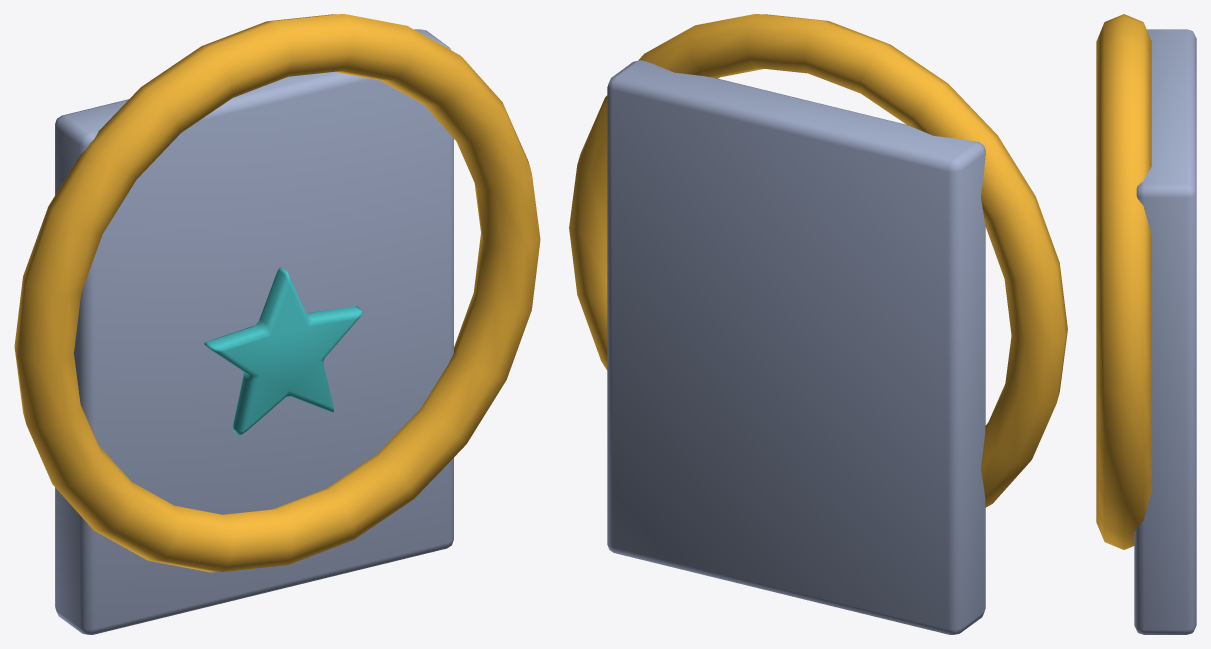
File: r057_dungeon_puzzle_door_puzzle_door.glb
The picture shows the model from 3 angles, left to right: view 1: azimuth 30°, elevation 25°; view 2: azimuth 150°, elevation 25°; view 3: azimuth 270°, elevation 25°; orthographic projection. The views are drawn at different scales.
Visible parts, largest first — view 1: r057_dungeon_puzzle_door_puzzle_door.001; view 2: r057_dungeon_puzzle_door_puzzle_door.001; view 3: r057_dungeon_puzzle_door_puzzle_door.001.
Boxes of the visible parts, x1,y1,x2,y2 form: r057_dungeon_puzzle_door_puzzle_door.001: [14, 14, 540, 634]; r057_dungeon_puzzle_door_puzzle_door.001: [569, 14, 1067, 634]; r057_dungeon_puzzle_door_puzzle_door.001: [1096, 14, 1196, 634].
Bounding box in the file's own units: 3.9 × 4.15 × 0.725.
